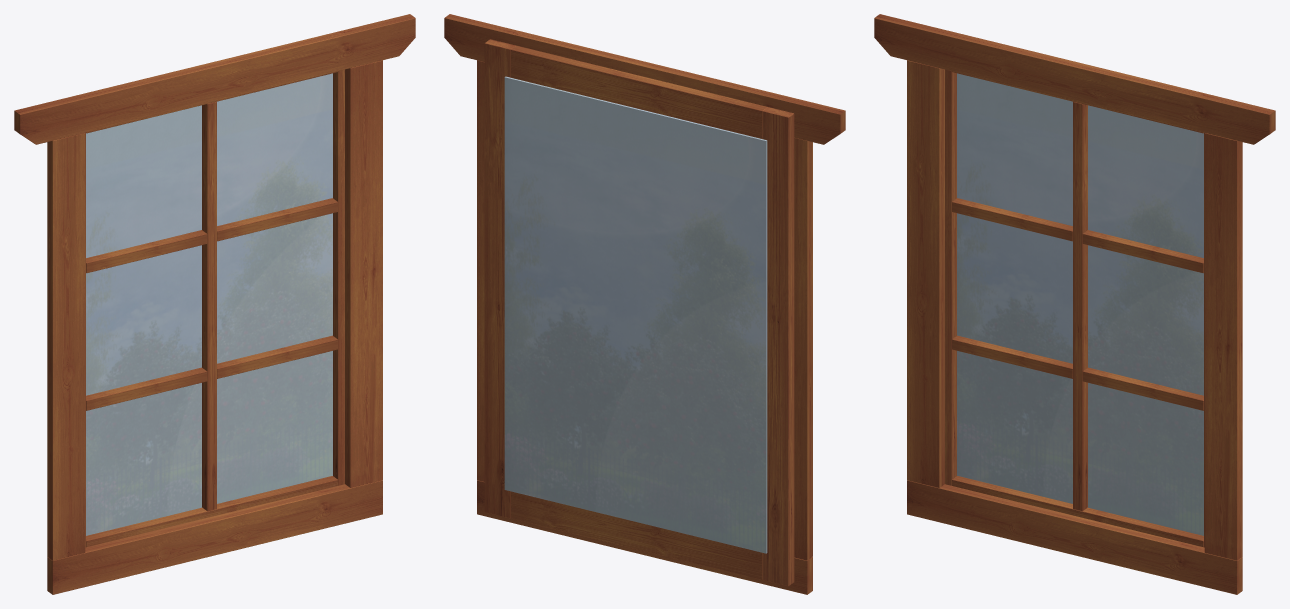
3 renders of one model, left to right at view 1: azimuth 30°, elevation 25°; view 2: azimuth 150°, elevation 25°; view 3: azimuth 330°, elevation 25°, orthographic.
Parts seen in each view (by area): view 1: glass, trim_left, trim_right, trim_top, trim_bottom, muttin_vertical, window_right, window_bottom, muttin005, muttin001, muttin003, muttin004; view 2: glass, window_left, window_right, window_top, trim_top, trim_left, window_bottom, trim_right, trim_bottom; view 3: glass, trim_right, trim_left, trim_top, trim_bottom, muttin_vertical, window_left, window_bottom, muttin004, muttin003, muttin001, muttin005.
Part boxes in pixels (<box>): glass: <box>86,73,332,535</box>; trim_left: <box>47,133,85,560</box>; trim_right: <box>345,60,382,487</box>; trim_top: <box>14,14,415,144</box>; trim_bottom: <box>47,480,382,594</box>; muttin_vertical: <box>202,101,216,511</box>; window_right: <box>333,69,344,485</box>; window_bottom: <box>86,476,337,547</box>; muttin005: <box>86,367,207,410</box>; muttin001: <box>86,230,207,273</box>; muttin003: <box>217,198,337,241</box>; muttin004: <box>217,335,337,378</box>; glass: <box>504,76,767,553</box>; window_left: <box>762,107,794,586</box>; window_right: <box>484,39,515,518</box>; window_top: <box>510,45,767,138</box>; trim_top: <box>444,14,845,144</box>; trim_left: <box>794,137,812,560</box>; window_bottom: <box>510,491,762,579</box>; trim_right: <box>477,60,484,481</box>; trim_bottom: <box>477,480,812,594</box>; glass: <box>957,73,1203,535</box>; trim_right: <box>1204,133,1242,560</box>; trim_left: <box>907,60,944,487</box>; trim_top: <box>874,14,1275,144</box>; trim_bottom: <box>907,480,1242,594</box>; muttin_vertical: <box>1073,101,1087,511</box>; window_left: <box>945,69,956,485</box>; window_bottom: <box>952,476,1203,547</box>; muttin004: <box>1082,367,1203,410</box>; muttin003: <box>1082,230,1203,273</box>; muttin001: <box>952,198,1072,241</box>; muttin005: <box>952,335,1072,378</box>.
Bounding box in the file's own units: 30.25 × 35.67 × 1.64.
Materials: 7 (7 with a texture image).
